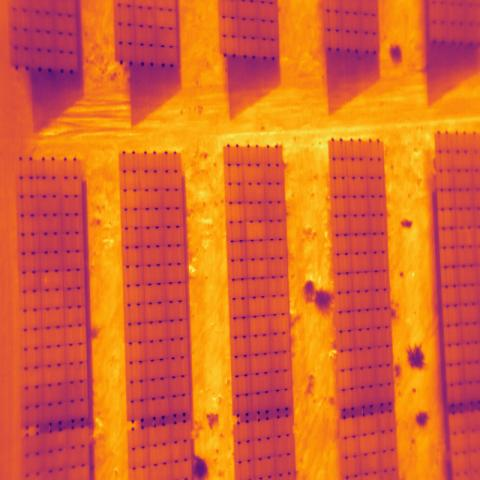fault: (245, 221, 267, 243)
